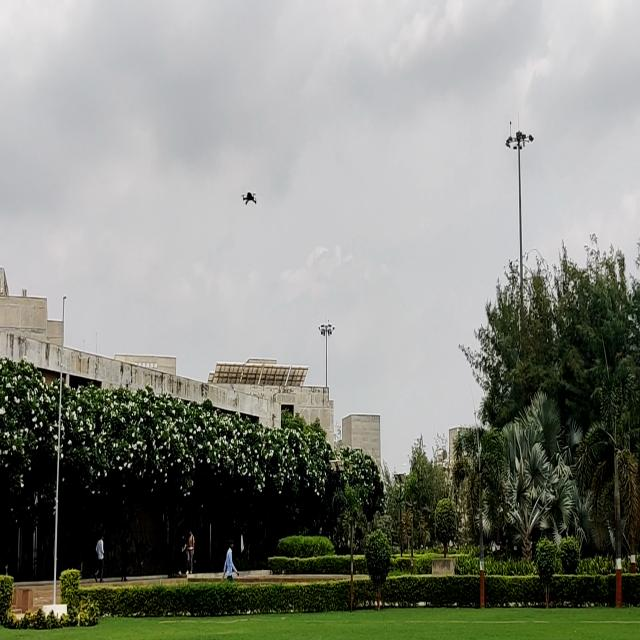drone: (240, 186, 261, 209)
